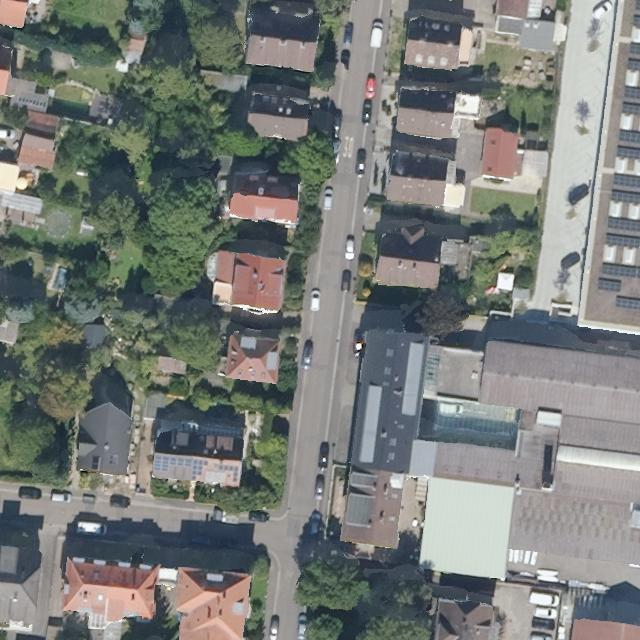PV: (595, 2, 638, 312), (149, 452, 213, 483), (213, 462, 242, 485)
